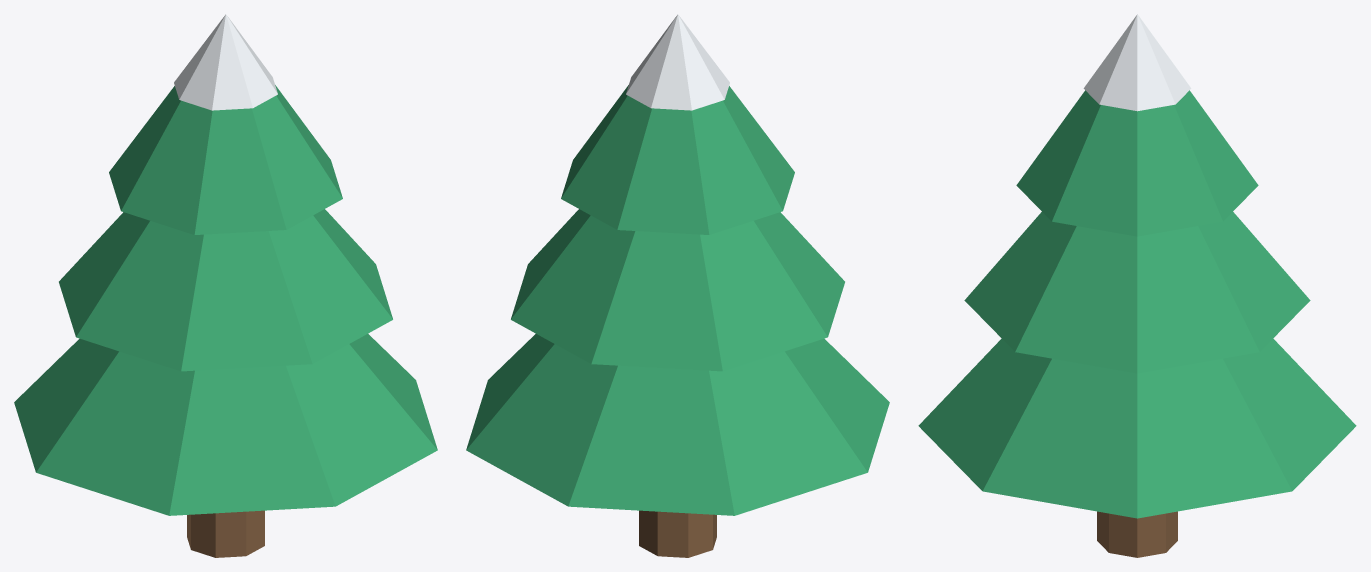
Rendered from SnowyPine.fbx.
The picture shows the model from 3 angles, left to right: view 1: azimuth 30°, elevation 25°; view 2: azimuth 150°, elevation 25°; view 3: azimuth 270°, elevation 25°; orthographic projection.
Visible parts, largest first — view 1: Leaves1, Leaves2, Leaves3, Snow3, Trunk; view 2: Leaves1, Leaves2, Leaves3, Snow3, Trunk; view 3: Leaves1, Leaves2, Leaves3, Snow3, Trunk.
Part boxes in pixels (left/top/right/bottom): Leaves1: left=14, top=334, right=437, bottom=515; Leaves2: left=59, top=209, right=392, bottom=371; Leaves3: left=109, top=85, right=342, bottom=234; Snow3: left=174, top=14, right=277, bottom=110; Trunk: left=187, top=510, right=264, bottom=557; Leaves1: left=466, top=334, right=889, bottom=515; Leaves2: left=511, top=209, right=844, bottom=371; Leaves3: left=561, top=85, right=794, bottom=234; Snow3: left=626, top=14, right=729, bottom=110; Trunk: left=639, top=510, right=716, bottom=557; Leaves1: left=918, top=338, right=1356, bottom=518; Leaves2: left=964, top=212, right=1310, bottom=373; Leaves3: left=1016, top=90, right=1258, bottom=236; Snow3: left=1083, top=14, right=1191, bottom=111; Trunk: left=1097, top=511, right=1177, bottom=557.
Bounding box in the file's own units: 380 × 504 × 380.
